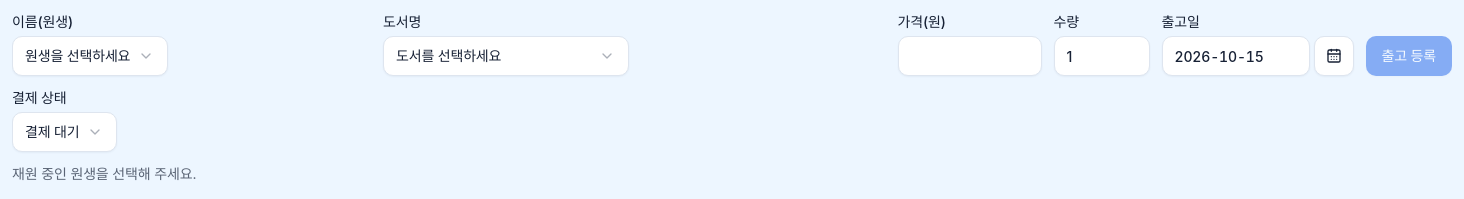
Scenario: BookShipmentForm › 입금일은 출고일보다 이를 수 없다
Select "김민지" in the dropdown labelled "이름(원생)" at (90,56), box [12,36,168,76]
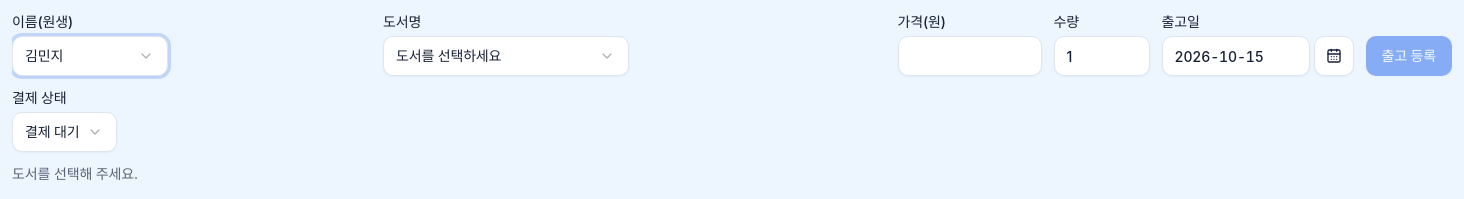
Select "바이엘 상 (남은 재고 9권)" in the dropdown labelled "도서명" at (506,56), box [383,36,629,76]
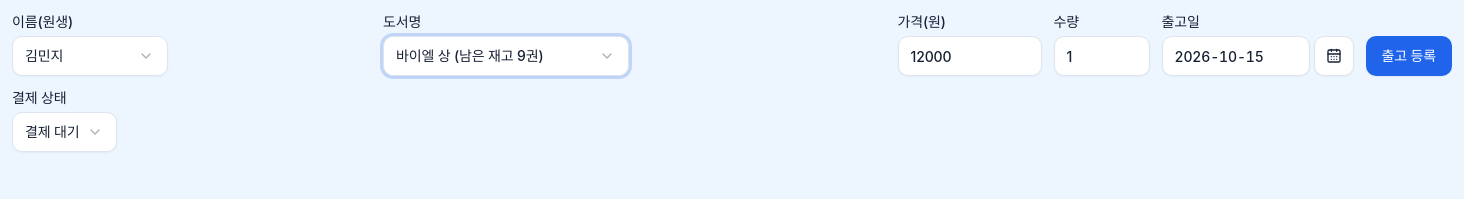
Select "결제 완료" in the dropdown labelled "결제 상태" at (64,132), box [12,112,117,152]
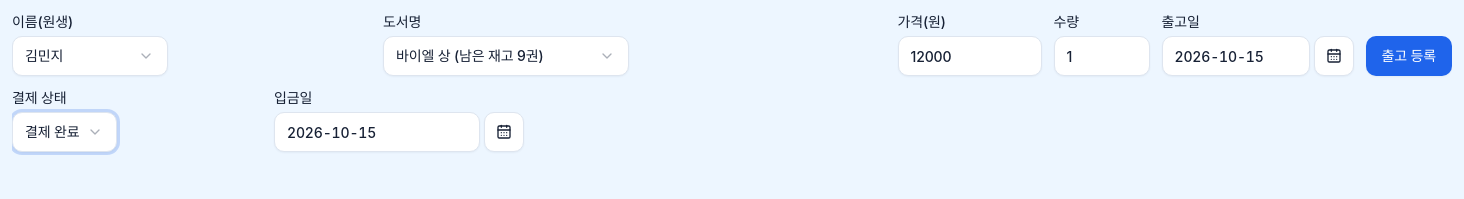
Replace the text in the field labelled "입금일" with "2026-10-14" at (377,132), box [274,112,480,152]
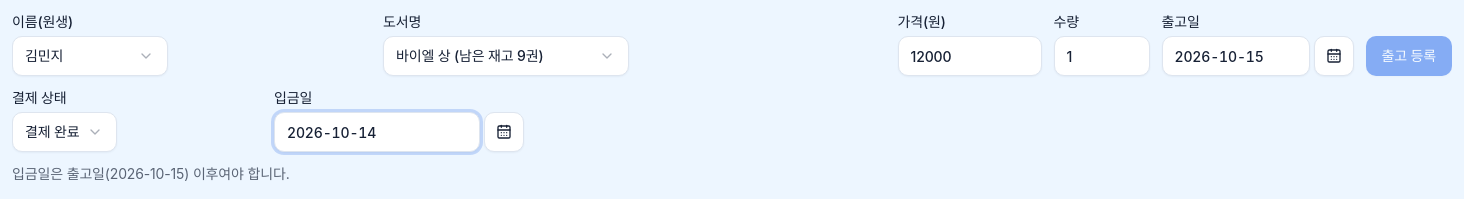
Expected: the button "출고 등록" is disabled, [1366,36,1452,76]
Expected: the text "입금일은 출고일(2026-10-15) 이후여야 합니다." is shown, [12,165,290,182]
